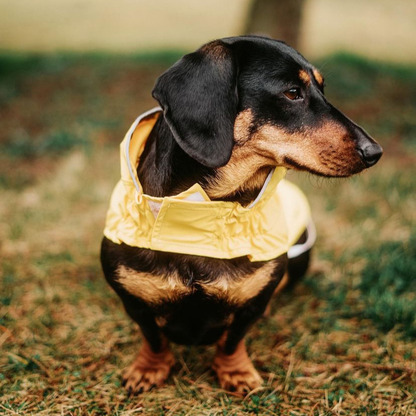dachshund: (131, 15, 343, 382)
